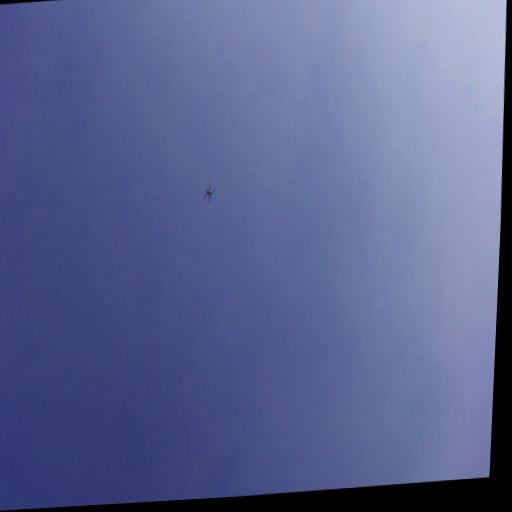drones: (202, 181, 215, 205)
